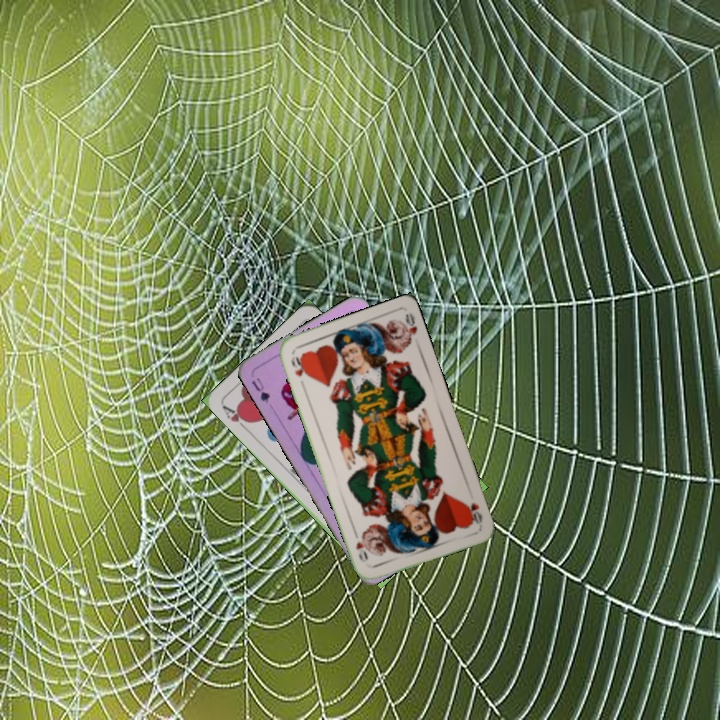GU: (247, 374, 273, 406)
HA: (218, 401, 253, 433)
HO: (462, 498, 485, 527), (287, 352, 310, 380)
